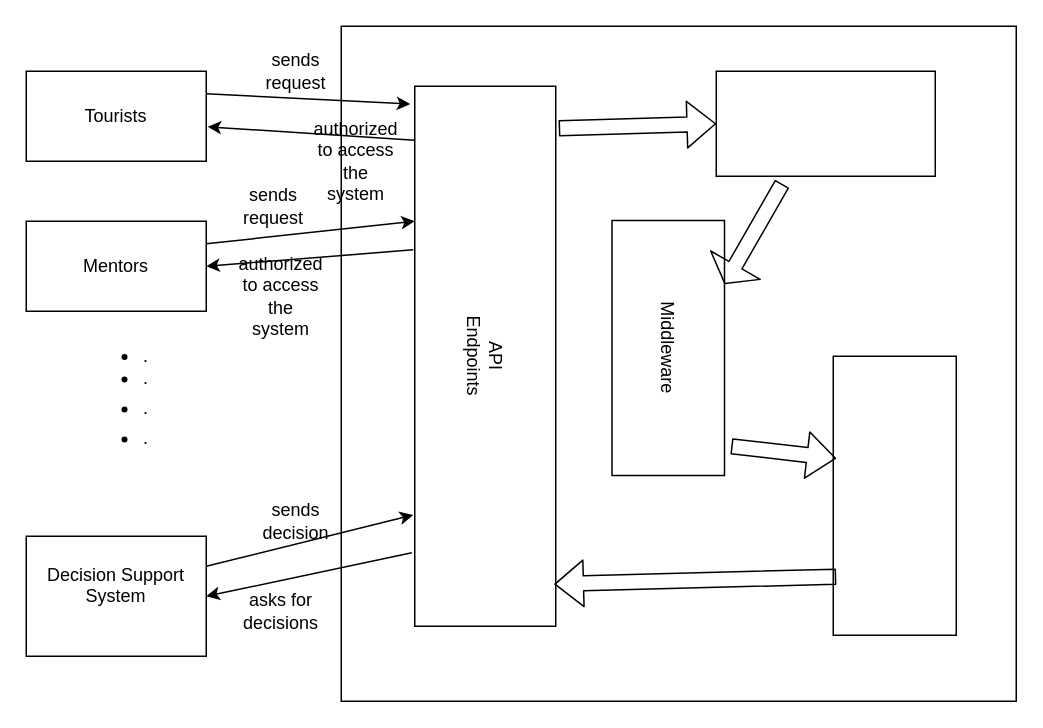
The diagram is 1043 pixels wide and 728 high, and some of its shapes have lost their labels. Each missing label, with the centre of its shape:
Authorization Module: [825,123]
Sajilo Yatra's Database: [894,495]
